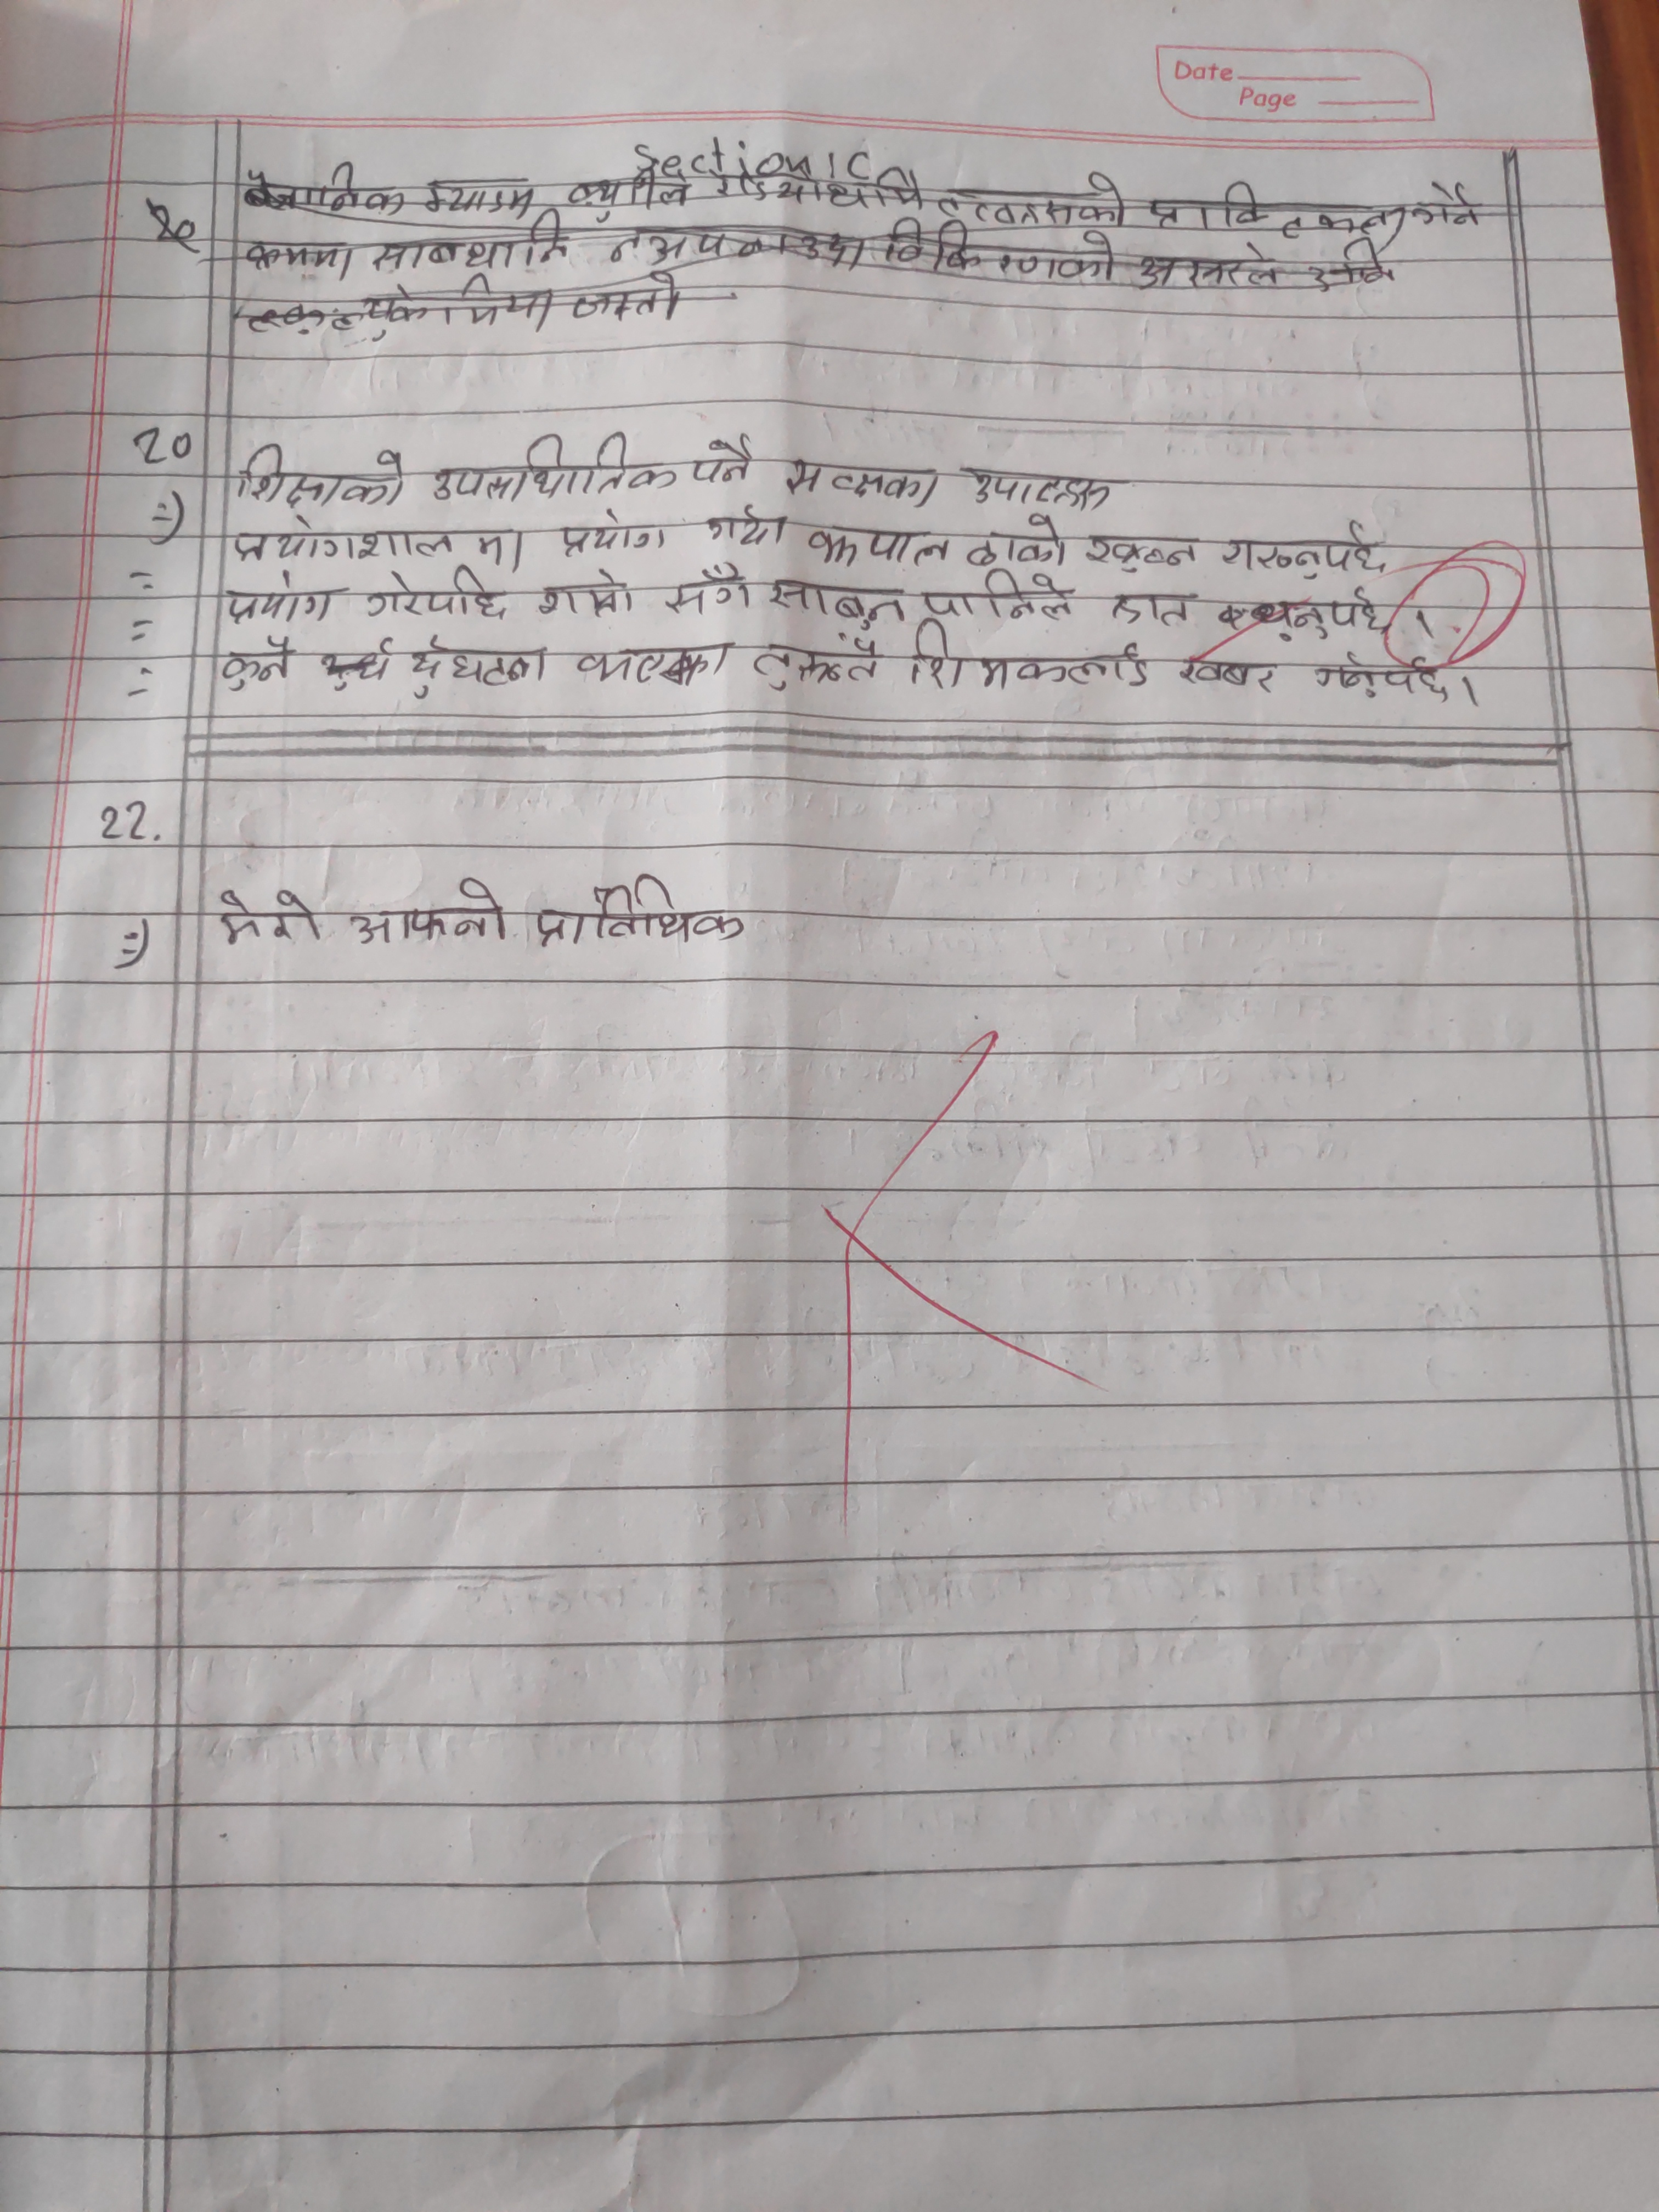text: (427, 432, 678, 507), (903, 618, 1147, 693), (535, 873, 744, 956), (235, 437, 410, 512), (232, 517, 532, 561), (347, 874, 514, 948), (1215, 519, 1399, 583), (401, 632, 554, 700), (1246, 582, 1399, 648), (782, 451, 939, 512), (765, 571, 906, 631), (920, 568, 1075, 620), (746, 637, 885, 695), (1312, 644, 1452, 702), (357, 568, 509, 620), (964, 463, 1121, 512), (812, 516, 953, 570), (211, 885, 326, 948), (579, 643, 735, 686), (1082, 526, 1206, 578), (960, 514, 1072, 571), (221, 571, 340, 622), (558, 510, 673, 559), (660, 563, 756, 620), (533, 566, 638, 618), (1175, 650, 1279, 700), (218, 634, 301, 690), (1107, 589, 1195, 632), (702, 507, 789, 547), (690, 435, 755, 486)
